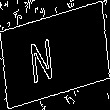N_N: (41, 26, 69, 84)
